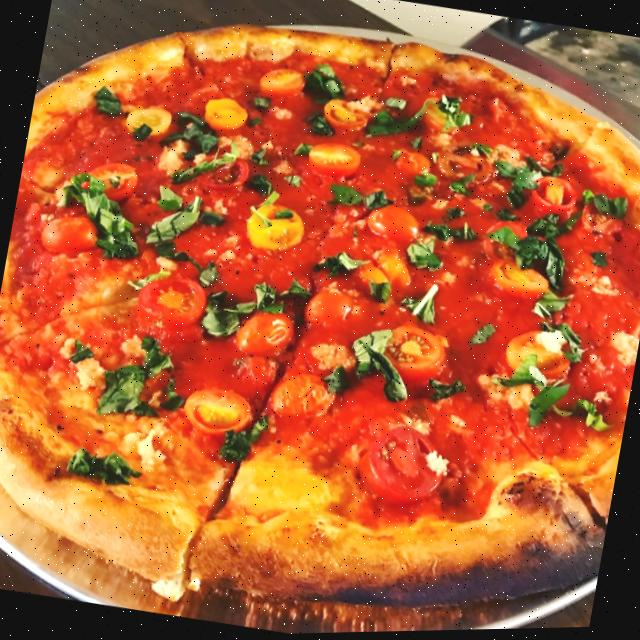basil: (76, 198, 142, 262), (501, 234, 570, 295), (148, 185, 202, 254), (96, 358, 145, 419), (199, 292, 244, 343), (348, 325, 388, 381), (399, 281, 444, 328), (528, 383, 569, 433), (320, 247, 366, 283), (507, 167, 538, 214), (405, 238, 442, 277), (308, 62, 344, 102), (248, 285, 280, 315), (327, 185, 362, 210), (362, 190, 392, 215)
pizza: (0, 0, 640, 640)
tomatoes: (357, 419, 453, 511), (498, 322, 579, 391), (133, 269, 209, 333), (380, 321, 450, 384), (240, 199, 311, 260), (179, 383, 253, 441), (232, 303, 295, 367), (35, 207, 99, 261), (270, 367, 329, 422), (433, 145, 498, 192), (490, 259, 552, 306), (300, 282, 354, 333), (363, 201, 421, 247), (85, 157, 139, 204), (304, 140, 364, 180), (576, 201, 630, 243), (481, 219, 528, 267), (196, 155, 248, 196), (527, 176, 577, 218), (200, 95, 252, 135), (320, 96, 374, 133), (258, 65, 306, 100), (124, 105, 173, 139), (392, 151, 434, 182)
